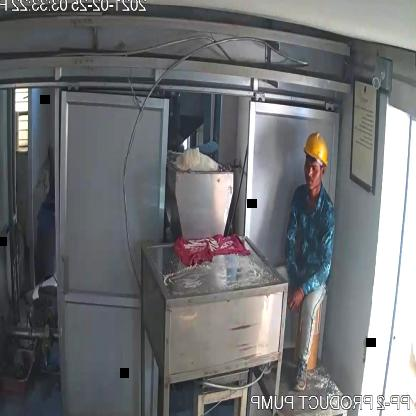helmet: (298, 130, 329, 172)
